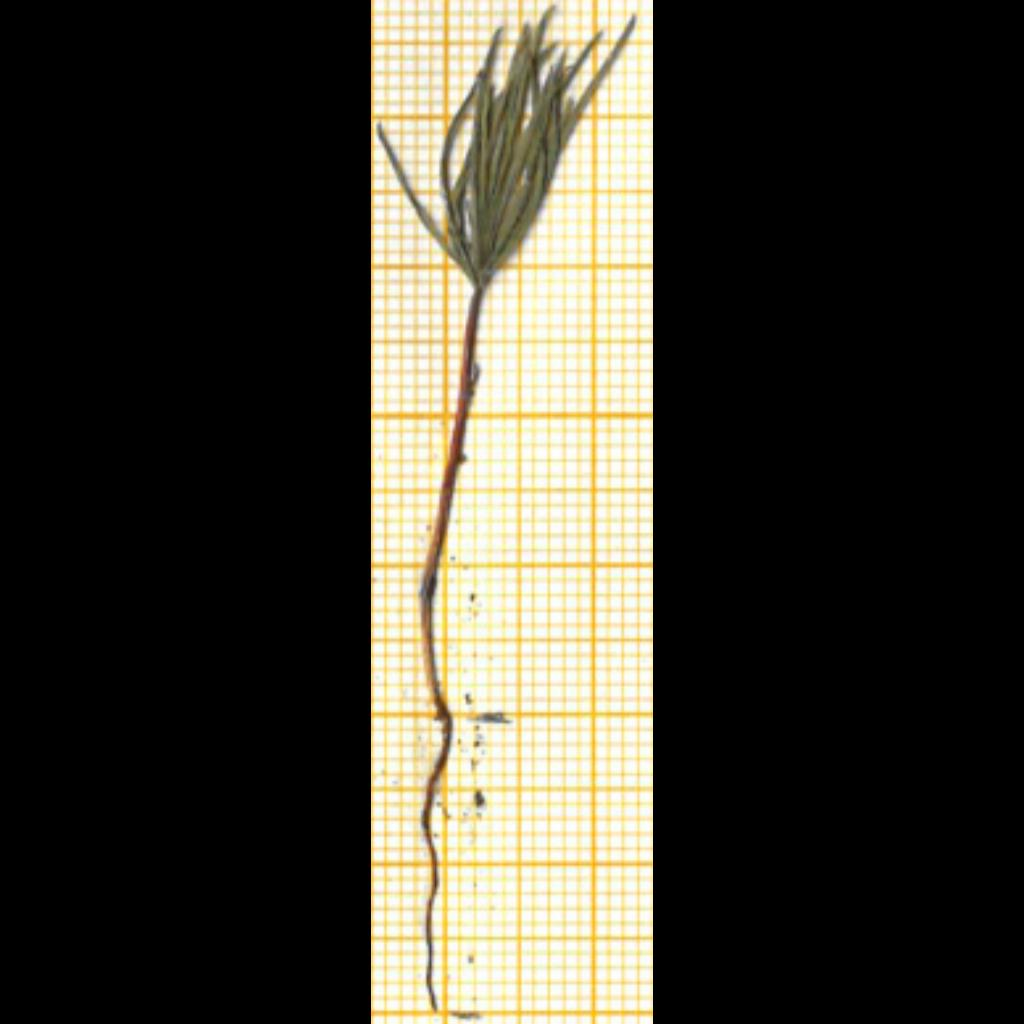flowerPinus: (408, 11, 600, 287)
rootPinus: (422, 708, 452, 1013)
stemPinus: (419, 291, 481, 720)
